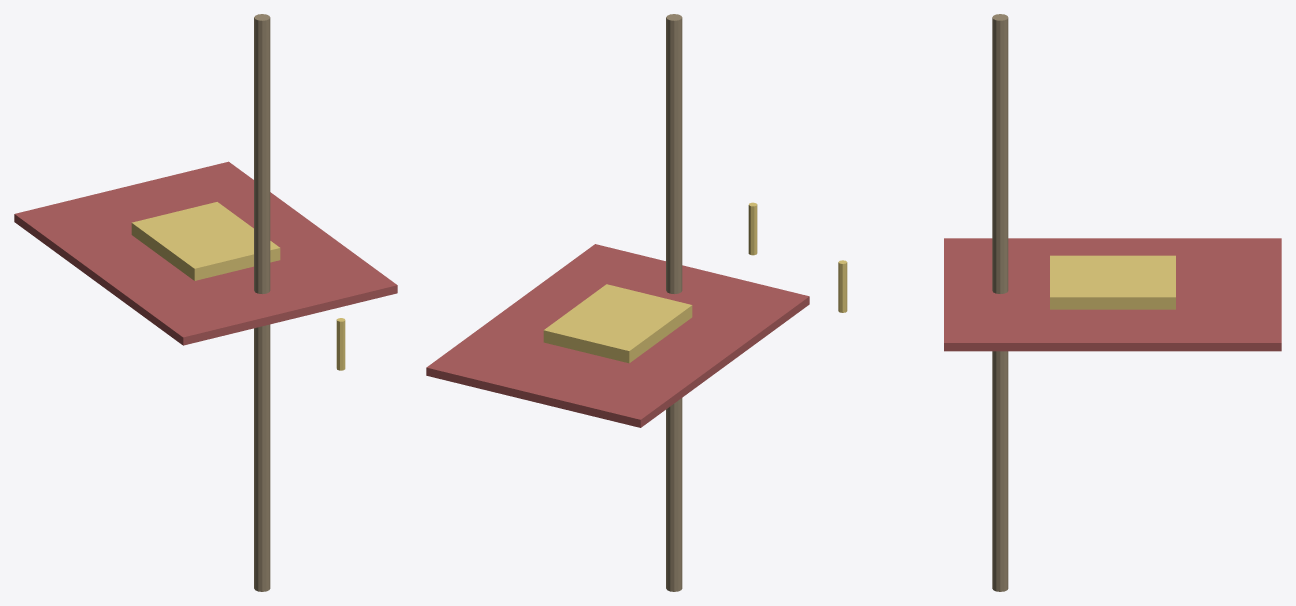
The model's file is house_banner.glb.
3 renders of one model, left to right at view 1: azimuth 30°, elevation 25°; view 2: azimuth 150°, elevation 25°; view 3: azimuth 270°, elevation 25°, orthographic.
Parts seen in each view (by area): view 1: banner, pole, crest, tassel; view 2: banner, pole, crest, tassel; view 3: banner, pole, crest.
Part boxes in pixels (x1,y1,x2,y2): banner: [14, 161, 397, 345]; pole: [254, 14, 270, 591]; crest: [131, 202, 280, 280]; tassel: [336, 318, 345, 370]; banner: [426, 244, 809, 427]; pole: [666, 14, 682, 591]; crest: [543, 284, 692, 363]; tassel: [748, 202, 757, 255]; banner: [944, 238, 1281, 351]; pole: [992, 14, 1008, 591]; crest: [1050, 255, 1175, 309].
Size of the model in its own units: 0.55 by 1.4 by 0.985.
